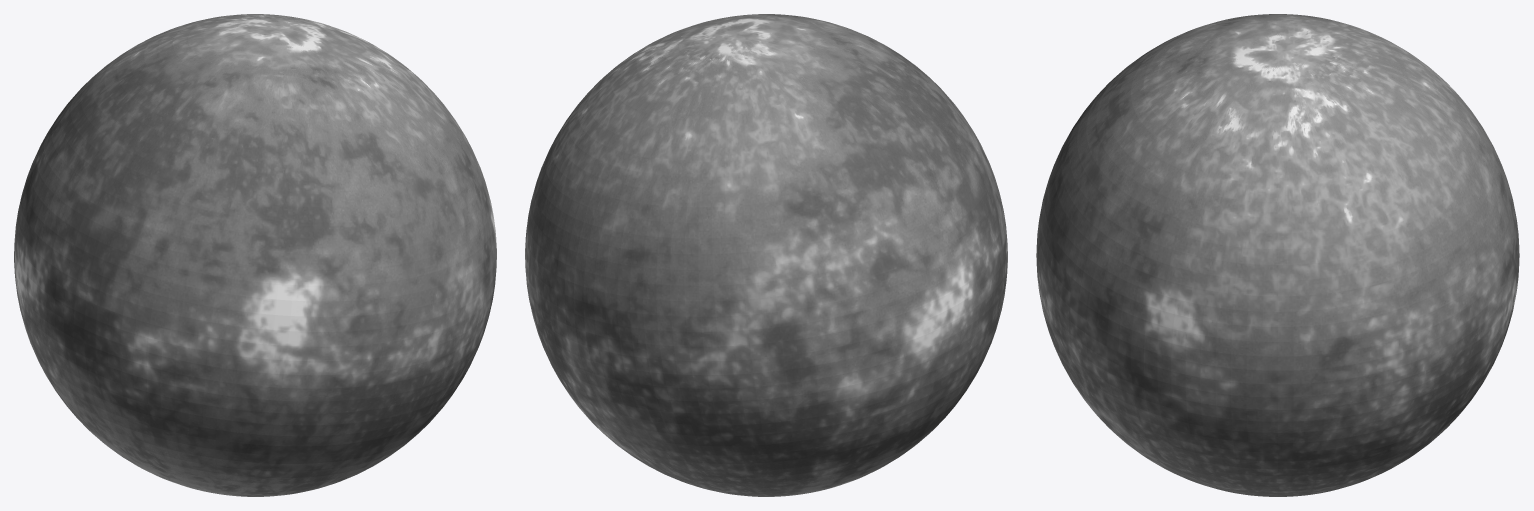
Rendered from neutronStar.dae.
The picture shows the model from 3 angles, left to right: view 1: azimuth 30°, elevation 25°; view 2: azimuth 150°, elevation 25°; view 3: azimuth 270°, elevation 25°; orthographic projection.
Visible parts, largest first — view 1: group_0; view 2: group_0; view 3: group_0.
Part boxes in pixels (bbox=[...]): group_0: bbox=[14, 14, 496, 496]; group_0: bbox=[525, 14, 1007, 496]; group_0: bbox=[1036, 14, 1519, 496].
Bounding box in the file's own units: 2.36 × 2.36 × 2.36.
